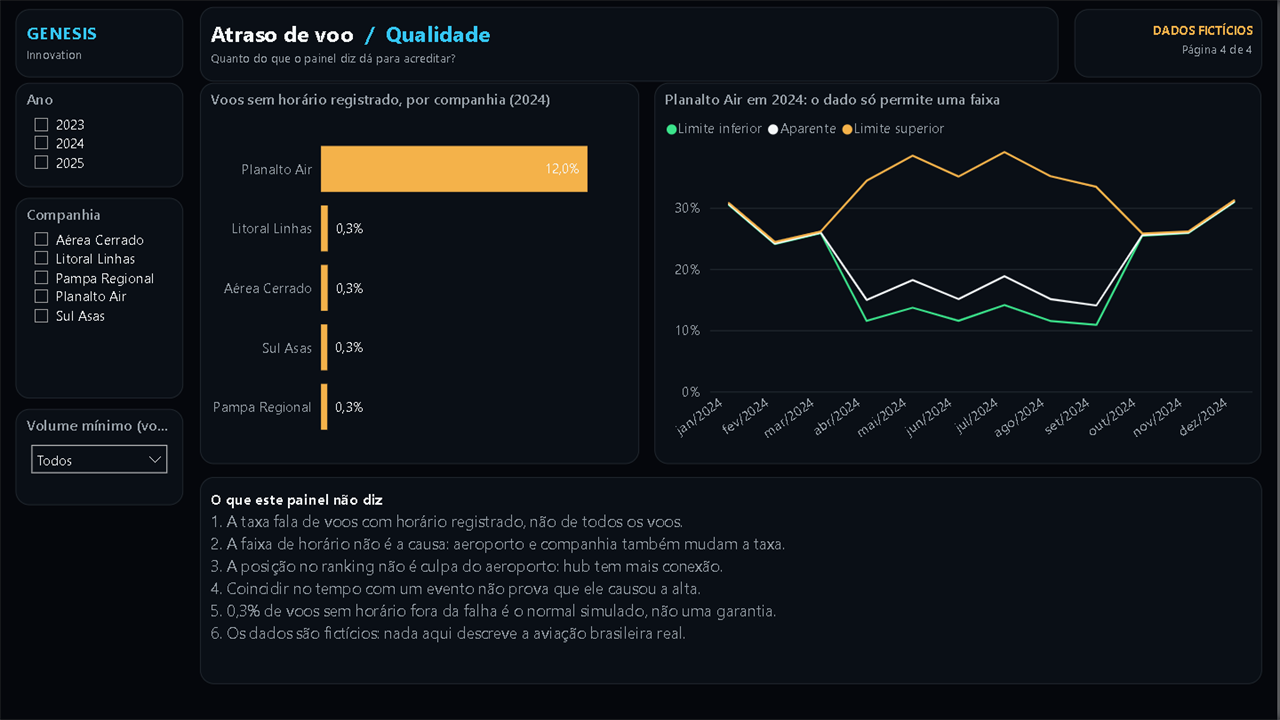

The dashboard page shown, as its layout file describes it:
{"tool":"powerbi","page":{"name":"Qualidade","canvas":[1280,720],"ordinal":3},"visuals":[{"type":"textbox","box":[16,10,168,68],"z":1},{"type":"textbox","box":[200,8,860,74],"z":2},{"type":"textbox","box":[1076,10,188,68],"z":3},{"type":"slicer","title":"Ano","fields":{"Values":["dim_calendario.ano"]},"box":[16,84,168,104],"z":9},{"type":"slicer","title":"Companhia","fields":{"Values":["dim_companhia.companhia"]},"box":[16,198,168,200],"z":10},{"type":"slicer","title":"Volume mínimo (voos)","fields":{"Values":["Param Volume Minimo.Value"]},"box":[16,408,168,96],"z":11},{"type":"barChart","title":"Voos sem horário registrado, por companhia (2024)","fields":{"Category":["dim_companhia.companhia"],"Y":["_Medidas.% de Voos Sem Horário"]},"box":[200,84,440,380],"z":20},{"type":"lineChart","title":"Planalto Air em 2024: o dado só permite uma faixa","fields":{"Category":["dim_calendario.mes_ano"],"Y":["_Medidas.Taxa de Atraso (limite inferior)","_Medidas.Taxa de Atraso 15","_Medidas.Taxa de Atraso (limite superior)"]},"box":[656,84,608,380],"z":21},{"type":"textbox","box":[200,476,1064,206],"z":22}]}

Visuals, with their boxes in screenshot pixels (x1, y1, x2, y2), scaled from the page's 1280x720 canvas onto the 1280x720 screenshot:
textbox: BBox(16, 10, 184, 78)
textbox: BBox(200, 8, 1060, 82)
textbox: BBox(1076, 10, 1264, 78)
"Ano" slicer: BBox(16, 84, 184, 188)
"Companhia" slicer: BBox(16, 198, 184, 398)
"Volume mínimo (voos)" slicer: BBox(16, 408, 184, 504)
"Voos sem horário registrado, por companhia (2024)" barChart: BBox(200, 84, 640, 464)
"Planalto Air em 2024: o dado só permite uma faixa" lineChart: BBox(656, 84, 1264, 464)
textbox: BBox(200, 476, 1264, 682)
